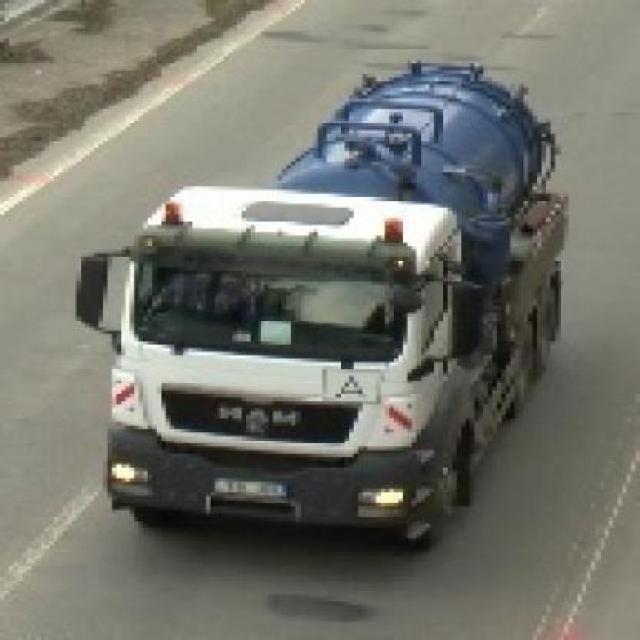truck: (77, 57, 565, 550)
